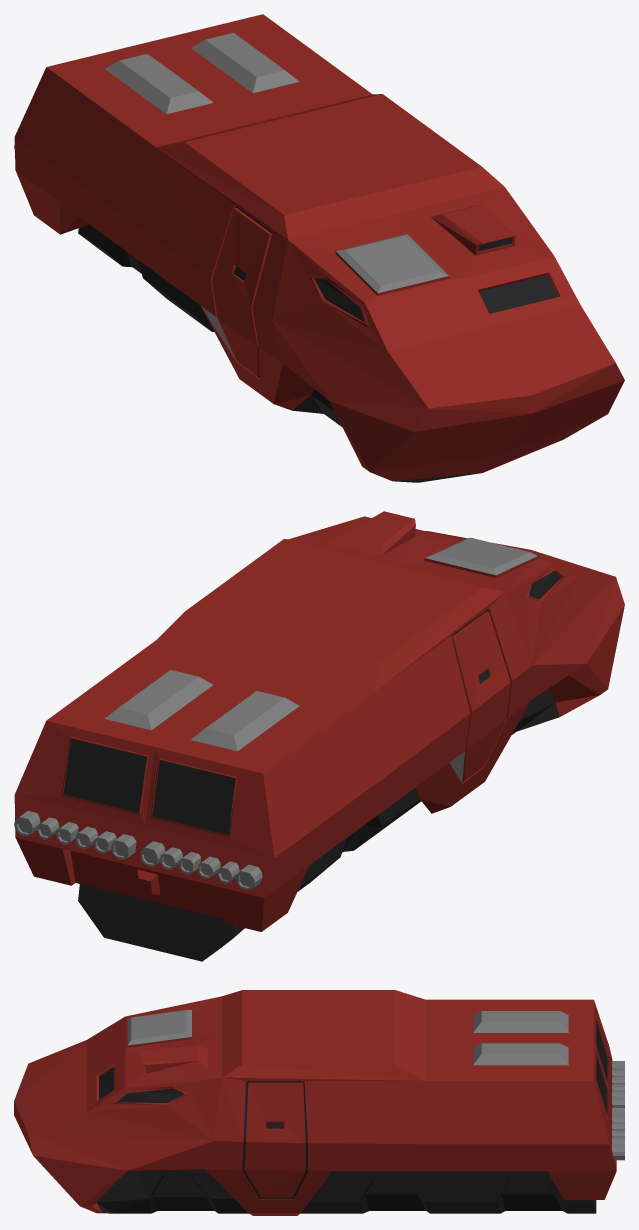
File: ground vehicle.glb
The picture shows the model from 3 angles, top to bottom: view 1: azimuth 30°, elevation 25°; view 2: azimuth 150°, elevation 25°; view 3: azimuth 270°, elevation 25°; orthographic projection. The views are drawn at different scales.
Parts seen in each view (by area): view 1: tripo_node_607ddd75-9668-4620-9256-250a60ecf628; view 2: tripo_node_607ddd75-9668-4620-9256-250a60ecf628; view 3: tripo_node_607ddd75-9668-4620-9256-250a60ecf628.
Boxes of the visible parts, x1,y1,x2,y2 form: tripo_node_607ddd75-9668-4620-9256-250a60ecf628: (14,14,624,482); tripo_node_607ddd75-9668-4620-9256-250a60ecf628: (14,511,624,961); tripo_node_607ddd75-9668-4620-9256-250a60ecf628: (14,990,624,1215).
Size of what is drawn, in the model's own units: 3.77 by 3.03 by 9.98.
